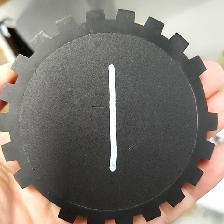gear: (1, 7, 219, 224)
missing: (11, 165, 79, 224), (186, 51, 219, 132)
